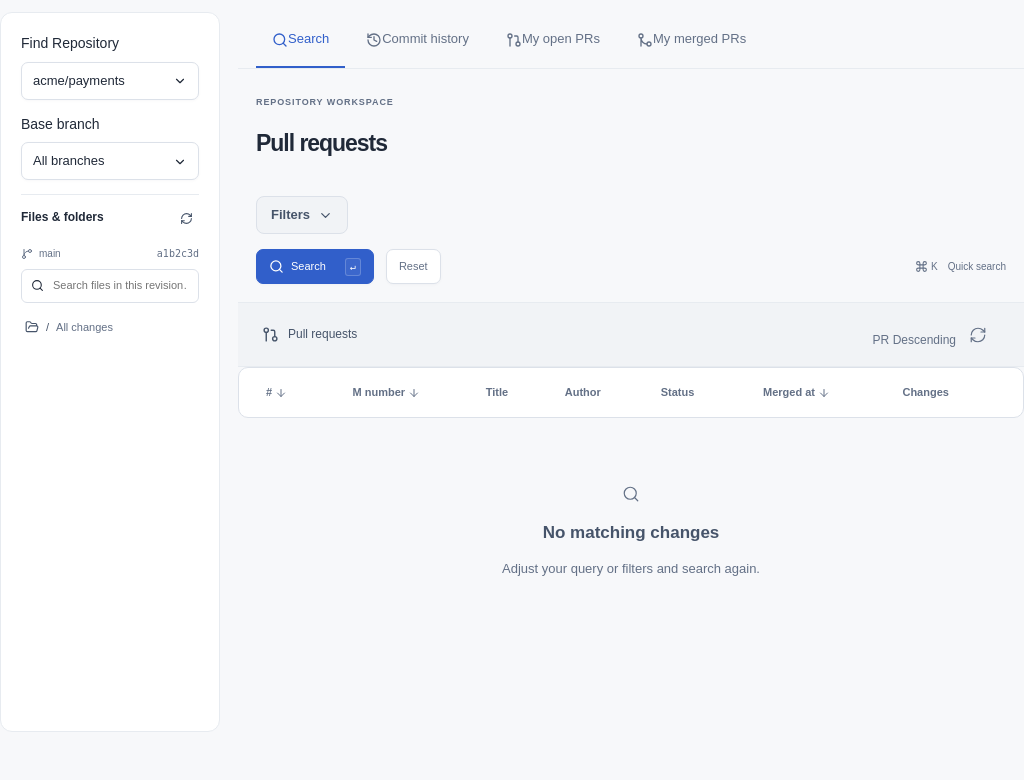
Test: CR-111: Range filter 통합 › 기본은 PR number이고, 유형을 바꿔도 이전 유형의 값이 사라지지 않는다
Click the button "Filters": (302, 215) [256, 196, 348, 234]
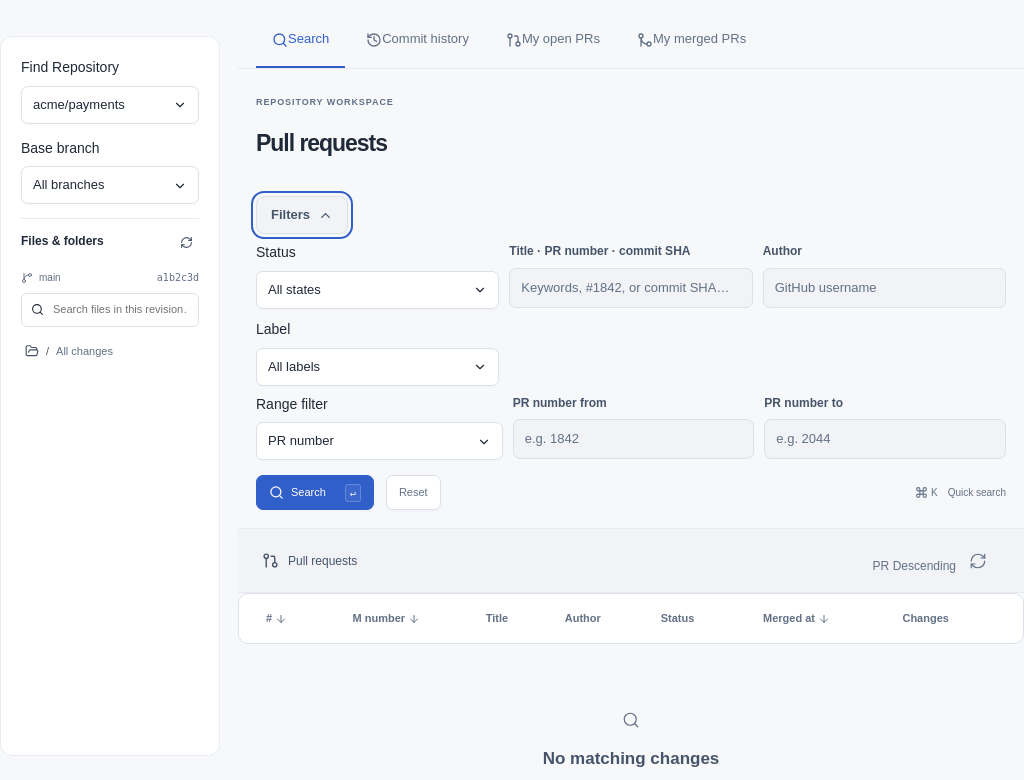
In the number field labelled "PR number from": (634, 439) [513, 419, 754, 459], type "1842"
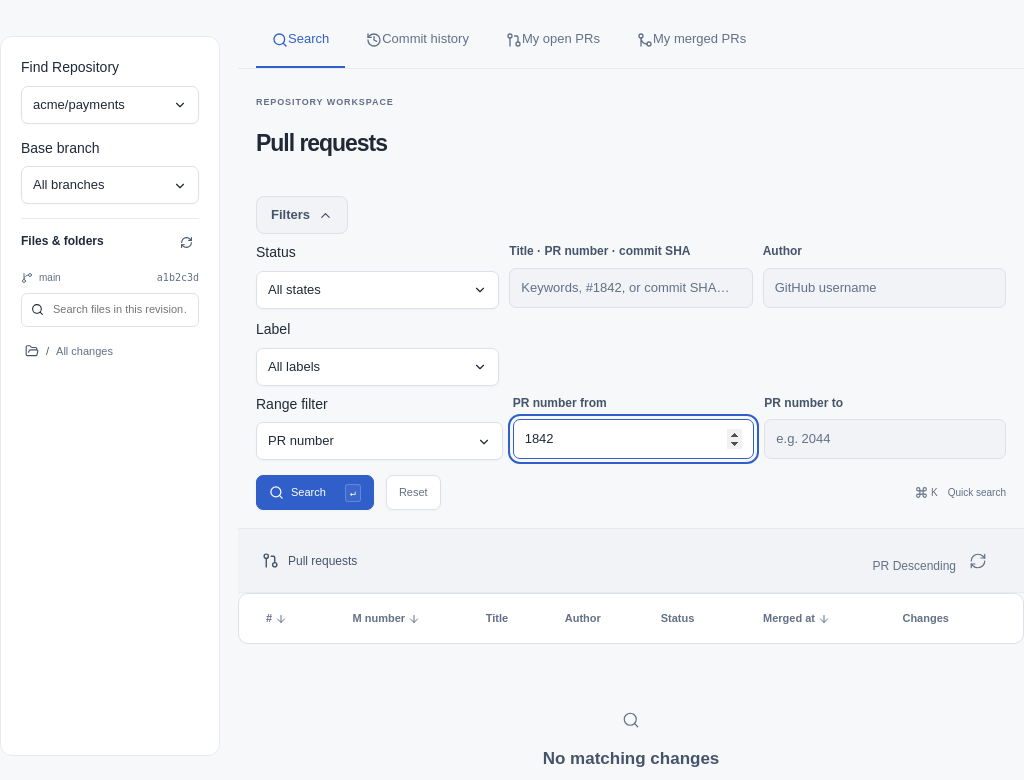
Check: the field labelled "Merge order: from commit" is not shown
Click the dropdown named "Range filter": (379, 441) [256, 422, 503, 460]
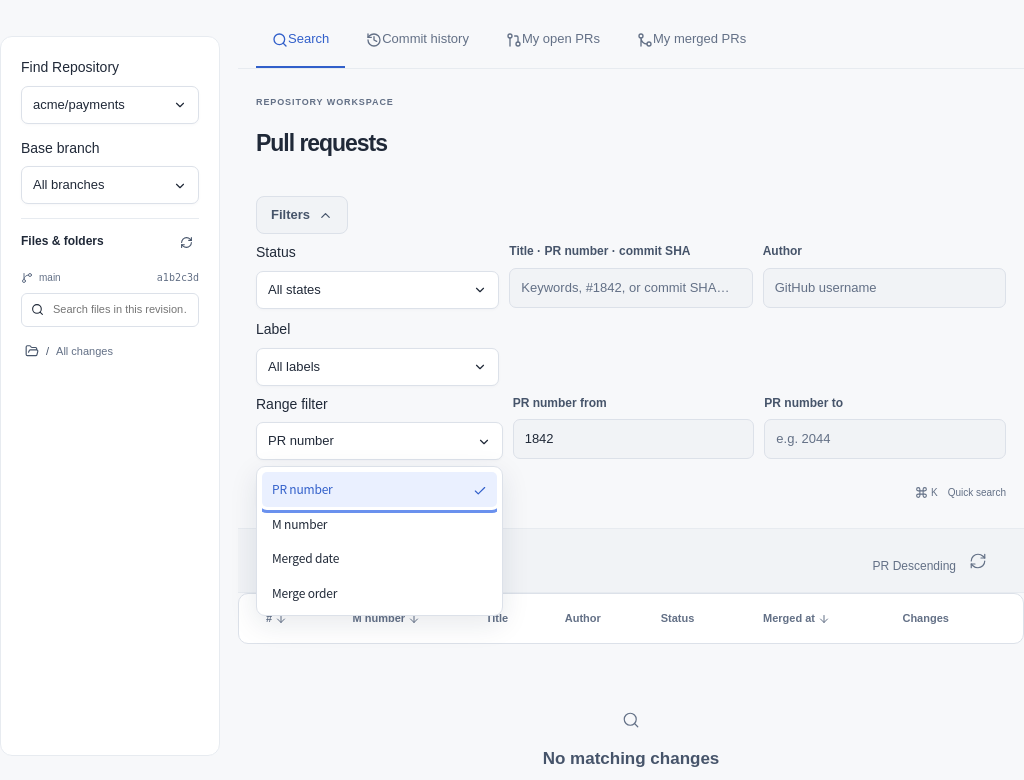
Click the option "Merge order": (305, 592) [272, 584, 337, 601]
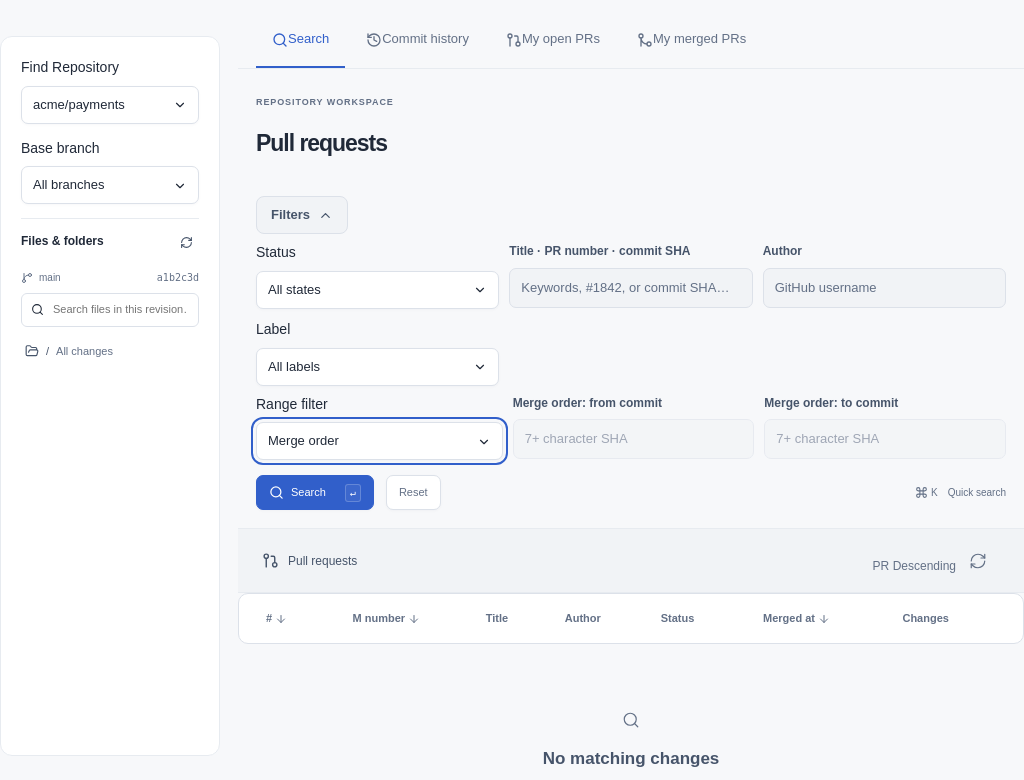
Check: the field labelled "Merge order: from commit" is shown, box [513, 419, 754, 459]
Check: the text "PR number from" is gone
Click the dropdown named "Range filter": (379, 441) [256, 422, 503, 460]
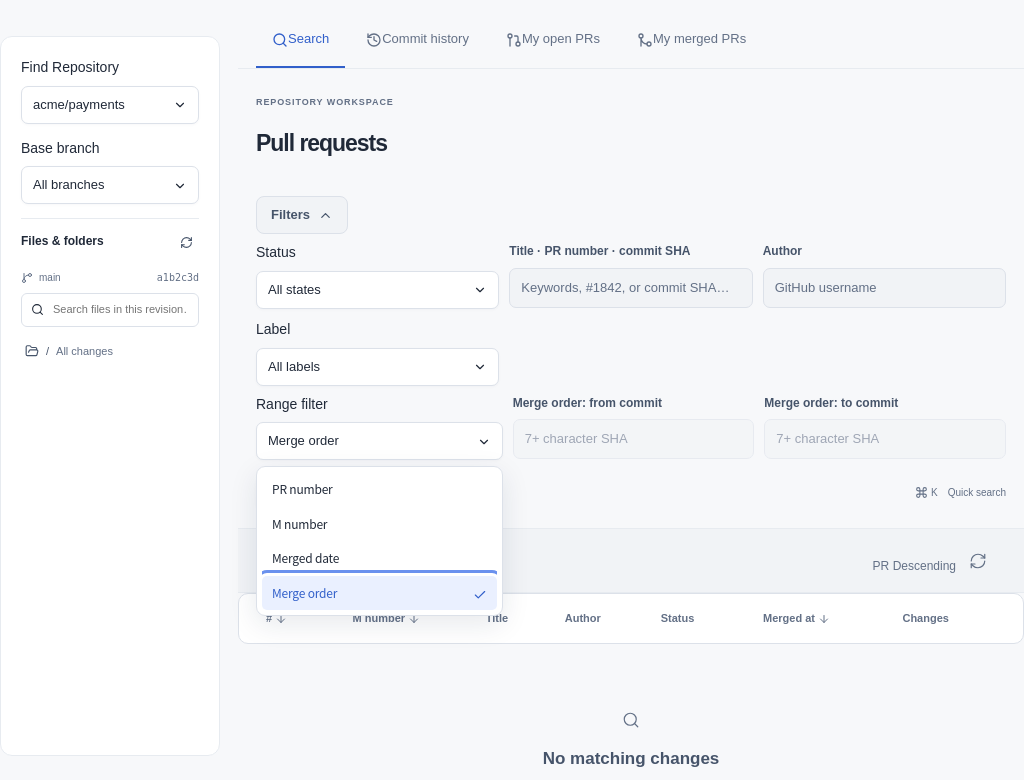
Click the option "PR number": (302, 488) [272, 480, 333, 497]
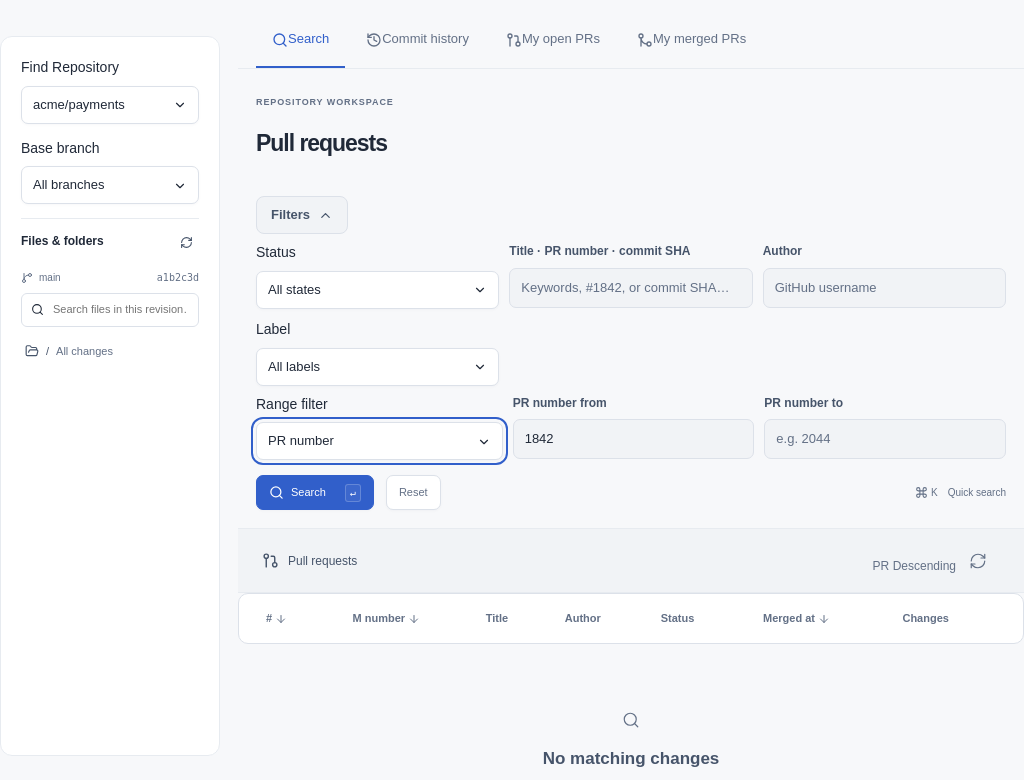
Check: the number field labelled "PR number from" holds "1842", box [513, 419, 754, 459]
